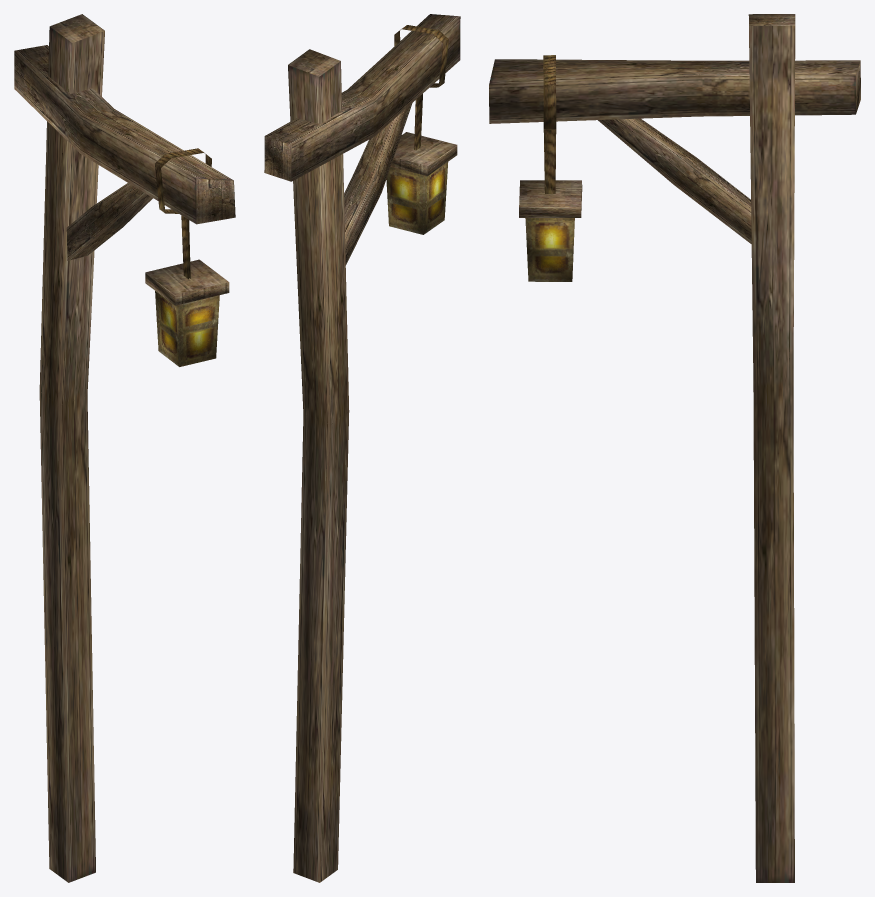
The model's file is S_Build_West082.FBX.
3 renders of one model, left to right at view 1: azimuth 30°, elevation 25°; view 2: azimuth 150°, elevation 25°; view 3: azimuth 270°, elevation 25°, orthographic. The views are drawn at different scales.
Visible parts, largest first — view 1: S_Build_West082; view 2: S_Build_West082; view 3: S_Build_West082.
Part boxes in pixels (x1,y1,x2,y2): S_Build_West082: (14, 14, 235, 882); S_Build_West082: (264, 14, 460, 882); S_Build_West082: (489, 14, 860, 882).
Size of the model in its own units: 35.63 by 193 by 494.
